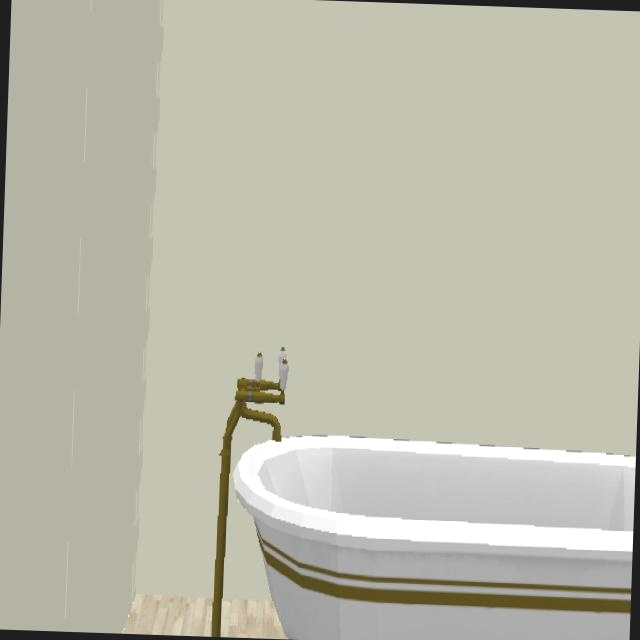bathtube: (231, 436, 635, 640)
